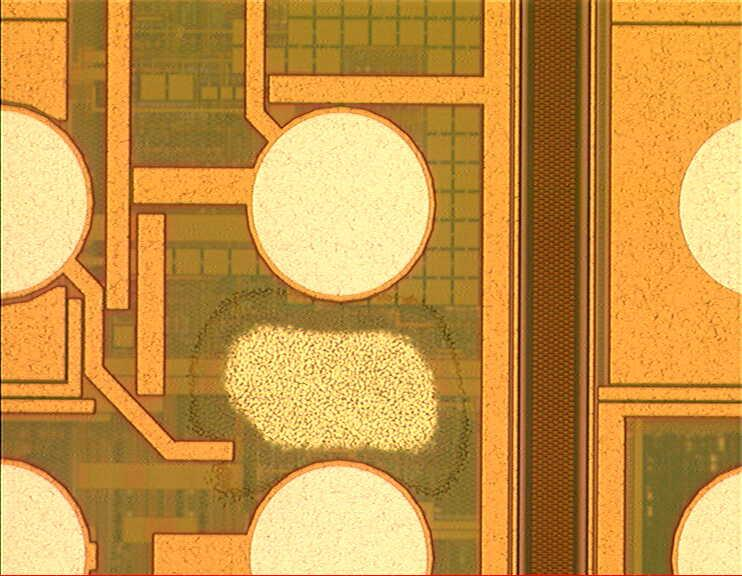BLOCK ETCH: (182, 284, 477, 505)
